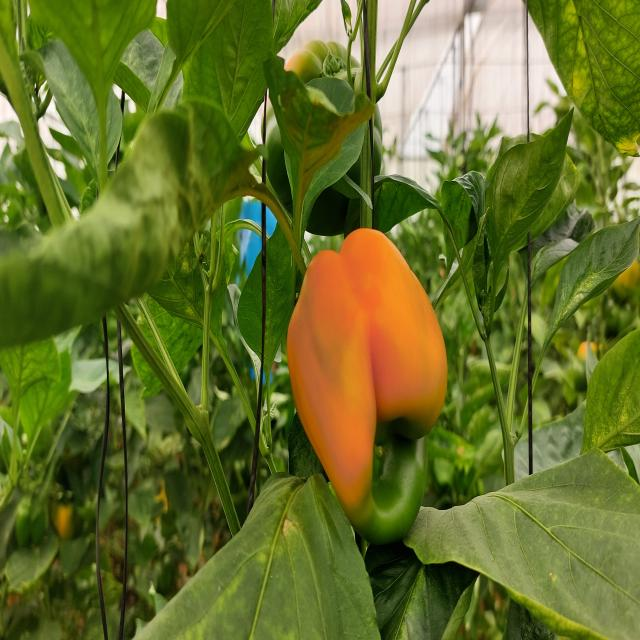Yellow-Ready-to-Harvest: (282, 223, 451, 509)
